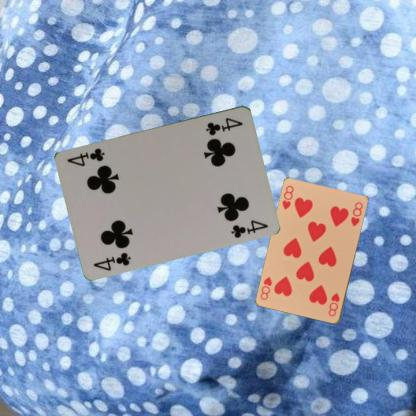4c: (91, 249, 132, 272), (204, 114, 244, 136)
8h: (280, 183, 295, 212), (326, 290, 341, 318)
